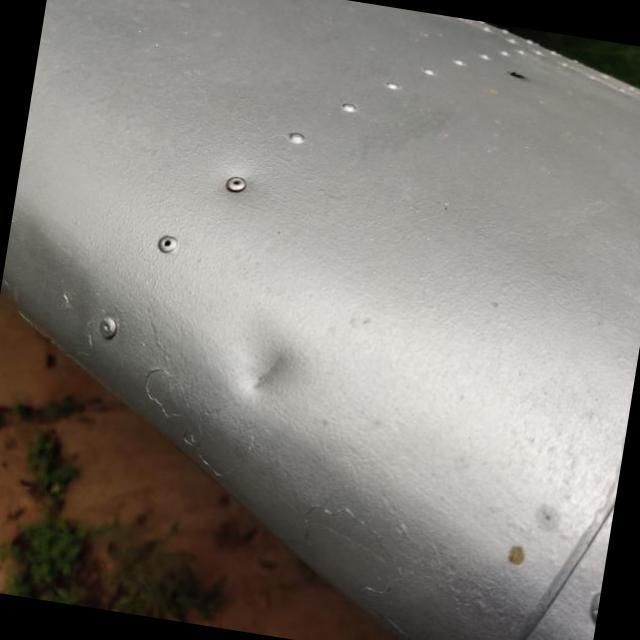Dent: (210, 312, 338, 434)
